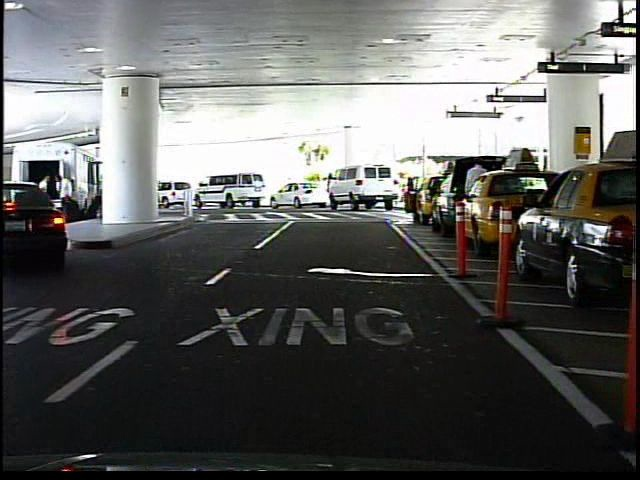person: (459, 155, 491, 238), (401, 174, 417, 208), (281, 173, 297, 204)
